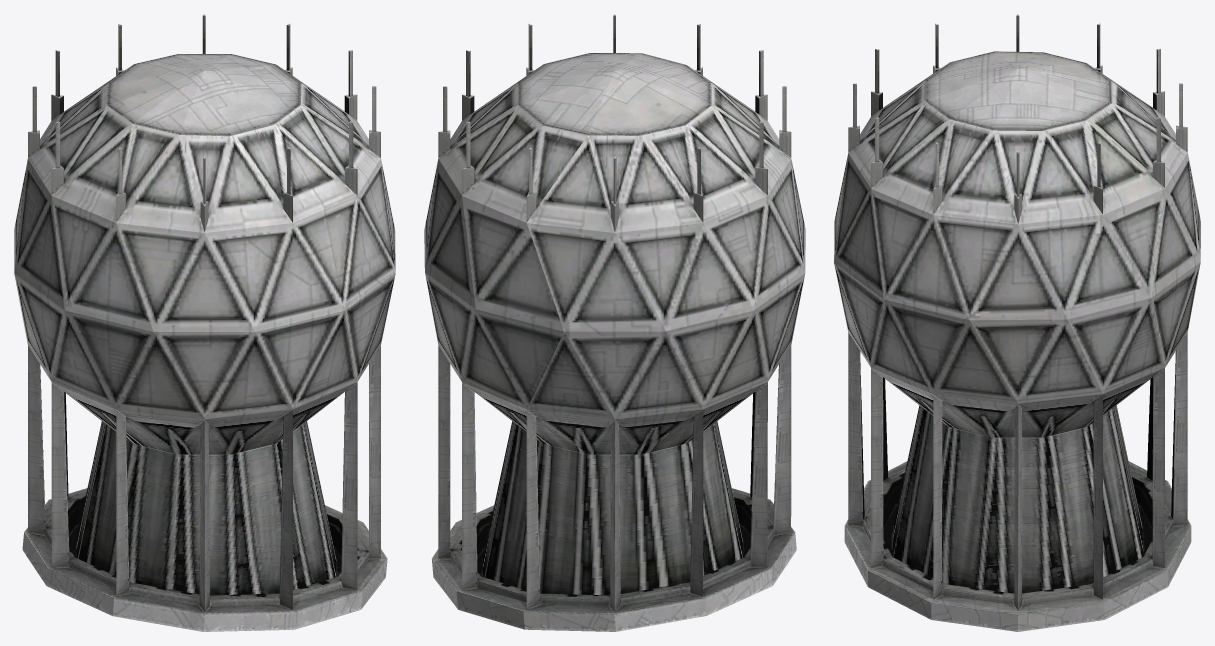
File: star_destroyer_shieldtower_2_l1.fbx
The picture shows the model from 3 angles, left to right: view 1: azimuth 30°, elevation 25°; view 2: azimuth 150°, elevation 25°; view 3: azimuth 270°, elevation 25°; orthographic projection. The views are drawn at different scales.
Parts seen in each view (by area): view 1: mesh_node; view 2: mesh_node; view 3: mesh_node.
Boxes of the visible parts, x1,y1,x2,y2 form: mesh_node: (14, 14, 395, 631); mesh_node: (424, 14, 805, 631); mesh_node: (834, 14, 1200, 631).
Size of the model in its own units: 68.03 by 100 by 68.01.
1 material, 1 textured.
